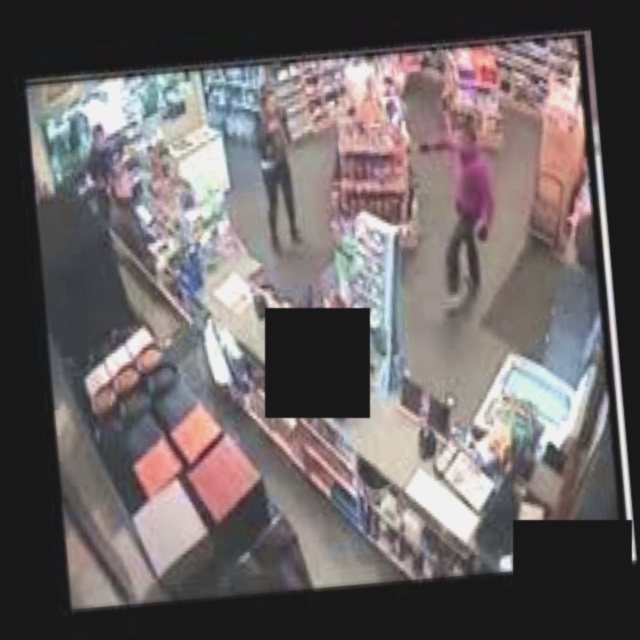gun: (410, 132, 427, 152)
